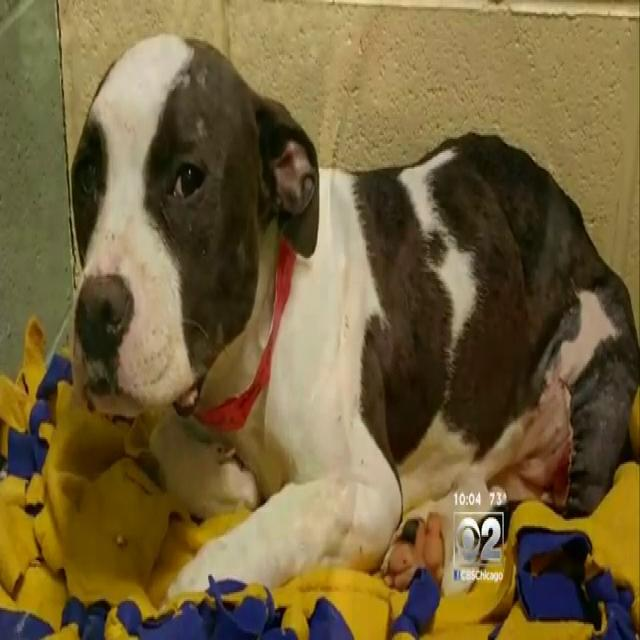normal_animals: (59, 27, 636, 597)
